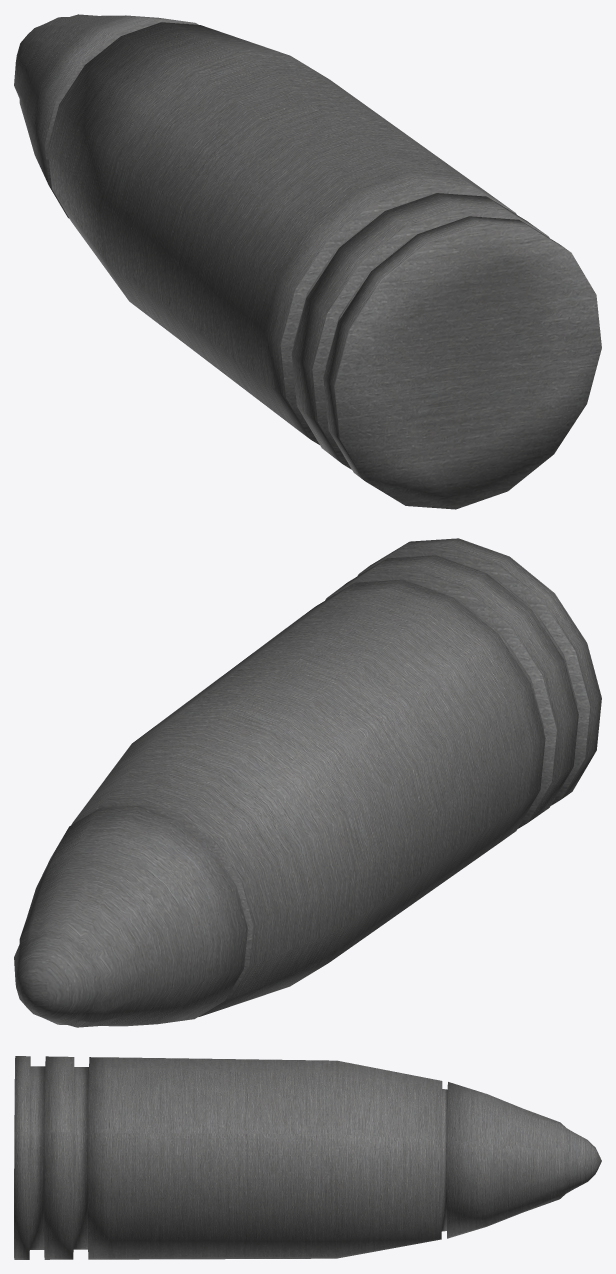
Rendered from TankBulletGrey.glb.
3 views of the same model, one above another, from view 1: azimuth 30°, elevation 25°; view 2: azimuth 150°, elevation 25°; view 3: azimuth 270°, elevation 25° (orthographic). The views are drawn at different scales.
Parts seen in each view (by area): view 1: Bullet; view 2: Bullet; view 3: Bullet.
Boxes of the visible parts, x1,y1,x2,y2 form: Bullet: (14, 14, 601, 509); Bullet: (14, 538, 601, 1027); Bullet: (14, 1056, 601, 1259).
Size of the model in its own units: 0.1828 by 0.1828 by 0.5243.
1 material, 1 textured.
